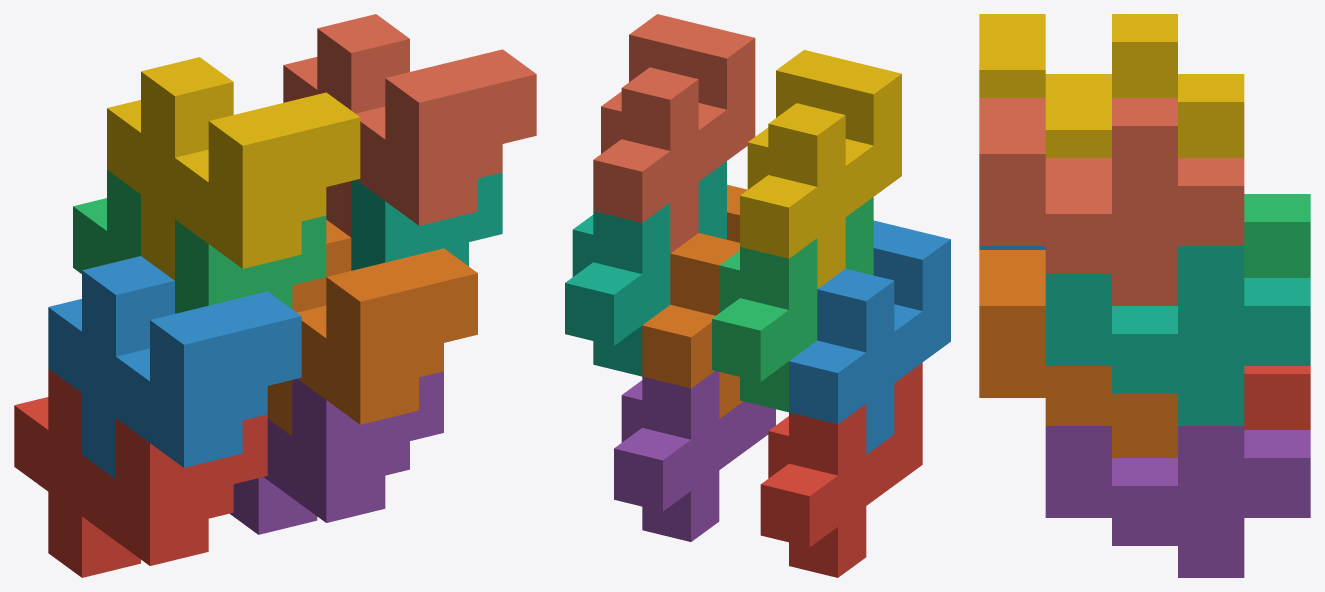
File: tiling.obj
3 views of the same model, side by side, from view 1: azimuth 30°, elevation 25°; view 2: azimuth 150°, elevation 25°; view 3: azimuth 270°, elevation 25° (orthographic). The views are drawn at different scales.
Visible parts, largest first — view 1: copy_1_domain_4, copy_1_domain_2, copy_1_domain_8, copy_1_domain_1, copy_1_domain_6, copy_1_domain_5, copy_1_domain_3, copy_1_domain_7; view 2: copy_1_domain_8, copy_1_domain_4, copy_1_domain_2, copy_1_domain_1, copy_1_domain_5, copy_1_domain_7, copy_1_domain_3, copy_1_domain_6; view 3: copy_1_domain_8, copy_1_domain_7, copy_1_domain_5, copy_1_domain_4, copy_1_domain_6, copy_1_domain_3, copy_1_domain_1.
Boxes of the visible parts, left/top/right/bottom form: copy_1_domain_4: left=107, top=57, right=360, bottom=280; copy_1_domain_2: left=48, top=256, right=301, bottom=479; copy_1_domain_8: left=283, top=14, right=536, bottom=237; copy_1_domain_1: left=14, top=369, right=267, bottom=577; copy_1_domain_6: left=267, top=220, right=477, bottom=436; copy_1_domain_5: left=230, top=371, right=443, bottom=534; copy_1_domain_3: left=73, top=170, right=326, bottom=313; copy_1_domain_7: left=351, top=172, right=502, bottom=270; copy_1_domain_8: left=593, top=14, right=755, bottom=253; copy_1_domain_4: left=740, top=50, right=901, bottom=288; copy_1_domain_2: left=789, top=220, right=950, bottom=454; copy_1_domain_1: left=760, top=362, right=922, bottom=577; copy_1_domain_5: left=614, top=371, right=775, bottom=541; copy_1_domain_7: left=565, top=161, right=726, bottom=376; copy_1_domain_3: left=712, top=197, right=873, bottom=412; copy_1_domain_6: left=642, top=184, right=747, bottom=418; copy_1_domain_8: left=979, top=98, right=1244, bottom=305; copy_1_domain_7: left=1045, top=246, right=1310, bottom=425; copy_1_domain_5: left=1045, top=426, right=1310, bottom=577; copy_1_domain_4: left=979, top=14, right=1244, bottom=157; copy_1_domain_6: left=979, top=250, right=1177, bottom=457; copy_1_domain_3: left=1244, top=194, right=1310, bottom=277; copy_1_domain_1: left=1244, top=366, right=1310, bottom=429.
Size of the model in its own units: 6 by 8 by 5.
